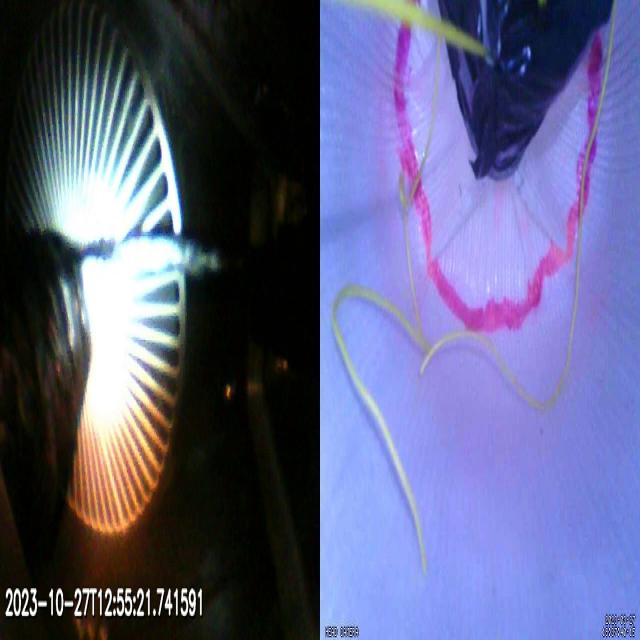red-circle: (392, 0, 605, 333)
